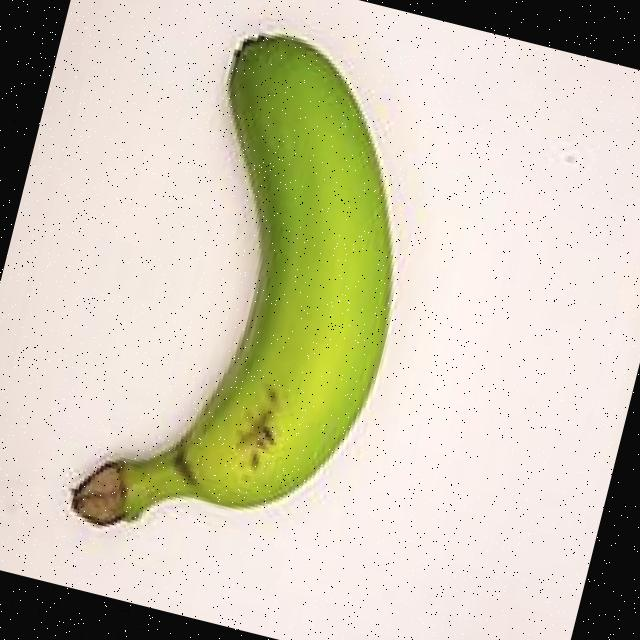Unripe: (25, 0, 467, 601)
